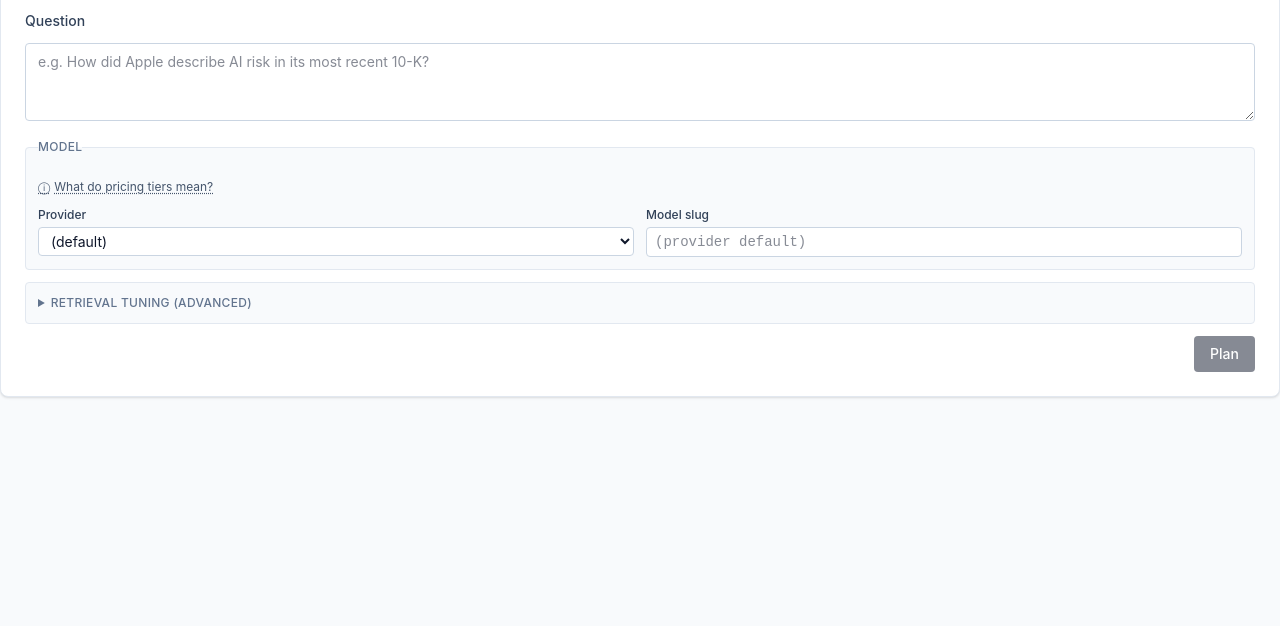
RagPage — generation streaming › surfaces an in-stream error event with a retry affordance and preserves the partial answer
Type "x" into the text box labelled "Question" at (640, 82), box 25,43 -> 1255,121
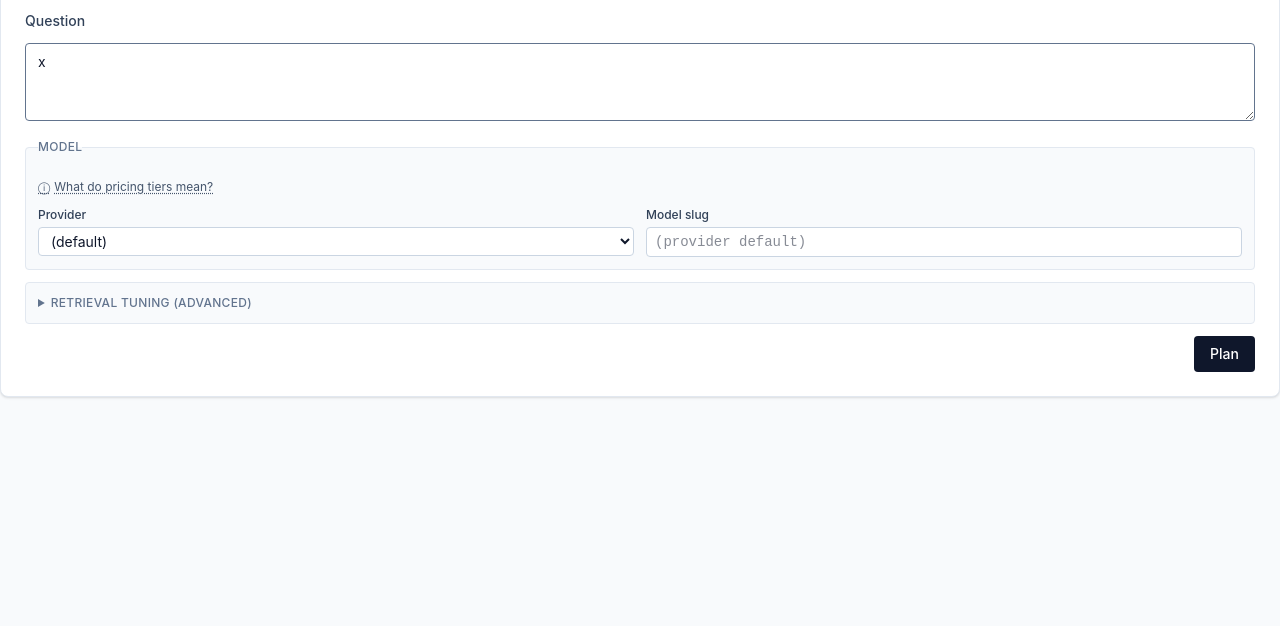
Click the button "Plan" at (1225, 354), box 1194,336 -> 1255,372
(page scrolled)
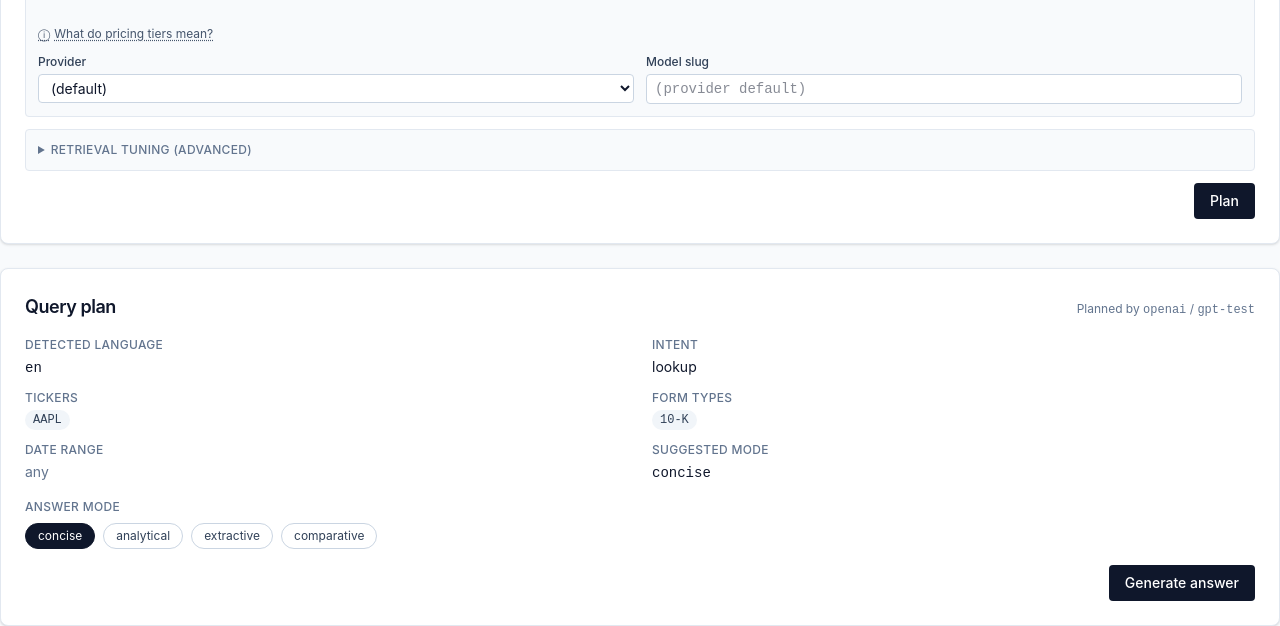
Expected: the list item "AAPL" is shown, 25,410 -> 70,430
Click the button "Generate answer" at (1182, 583), box 1109,565 -> 1255,601
(page scrolled)
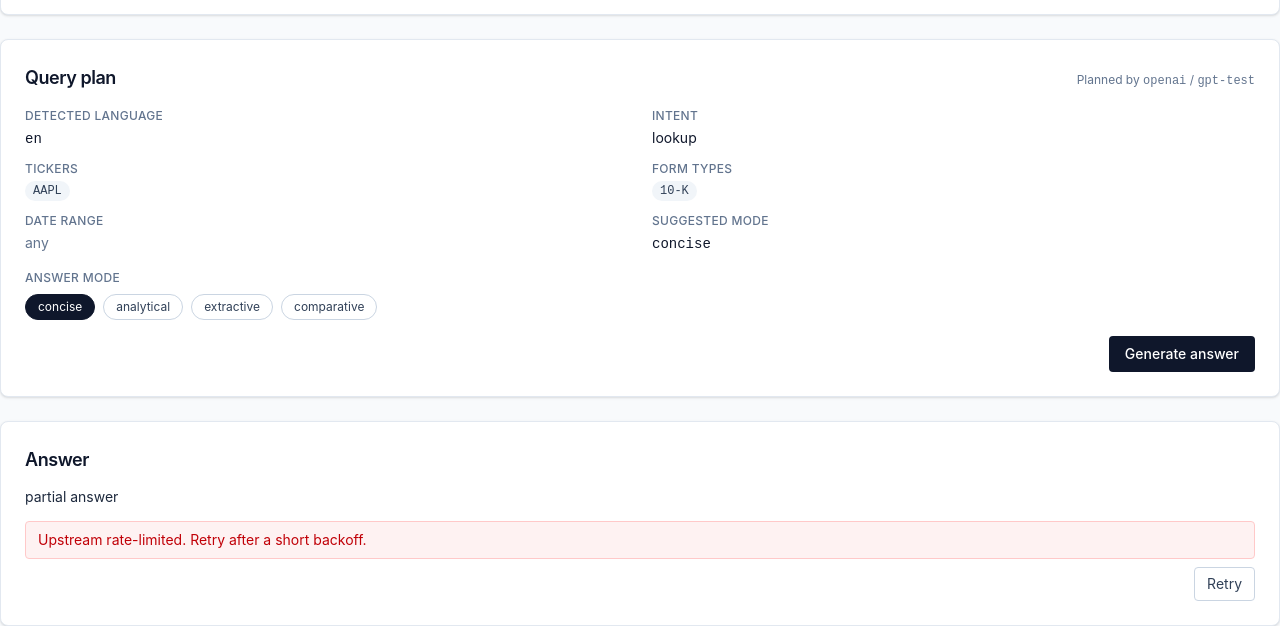
Expected: the message shows "Upstream rate-limited", 38,531 -> 186,548
Expected: the element labelled "Answer" shows "partial answer", 25,488 -> 122,505
Expected: the button "Retry" is shown, 1194,567 -> 1255,601
